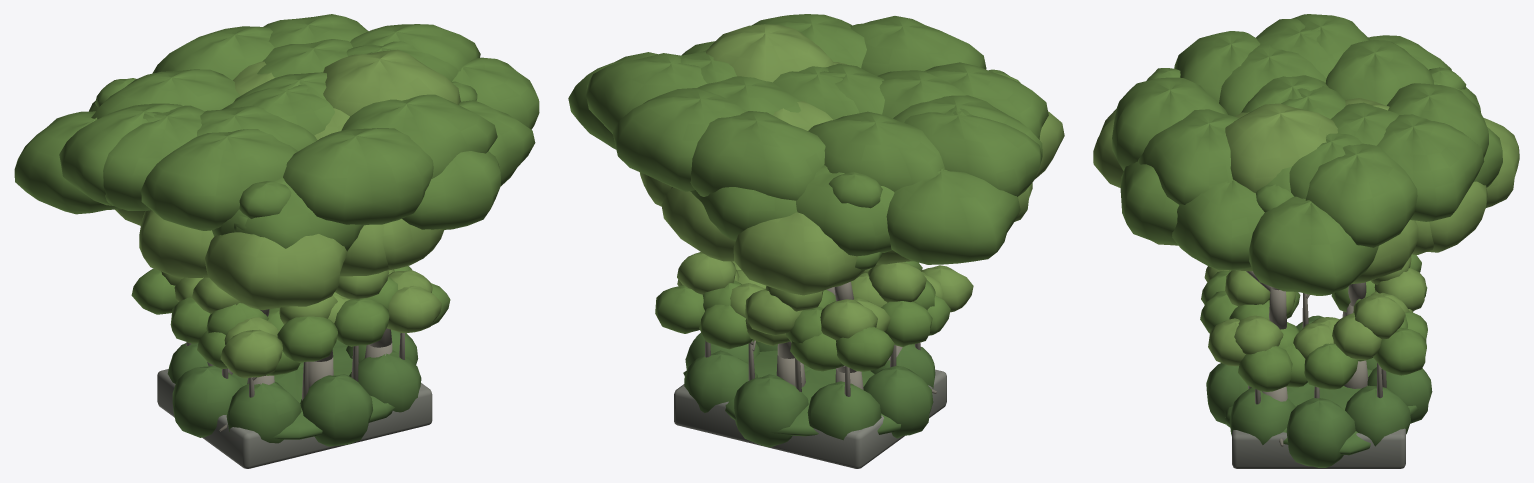
File: beech_copse_0.glb
The picture shows the model from 3 angles, left to right: view 1: azimuth 30°, elevation 25°; view 2: azimuth 150°, elevation 25°; view 3: azimuth 270°, elevation 25°; orthographic projection. The views are drawn at different scales.
Parts seen in each view (by area): view 1: beech_copse_0_painted_export; view 2: beech_copse_0_painted_export; view 3: beech_copse_0_painted_export.
Boxes of the visible parts, box(x1,y1,x2,y2) form: beech_copse_0_painted_export: box(14, 14, 539, 468); beech_copse_0_painted_export: box(568, 14, 1064, 468); beech_copse_0_painted_export: box(1093, 14, 1519, 468).
Size of the model in its own units: 21.13 by 15.3 by 17.18.
